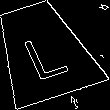L_N: (15, 22, 71, 80)
